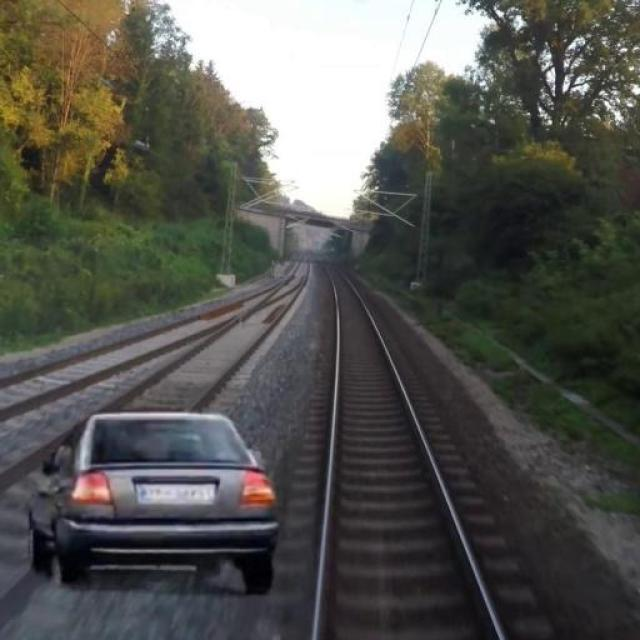vehicle: (21, 408, 285, 598)
